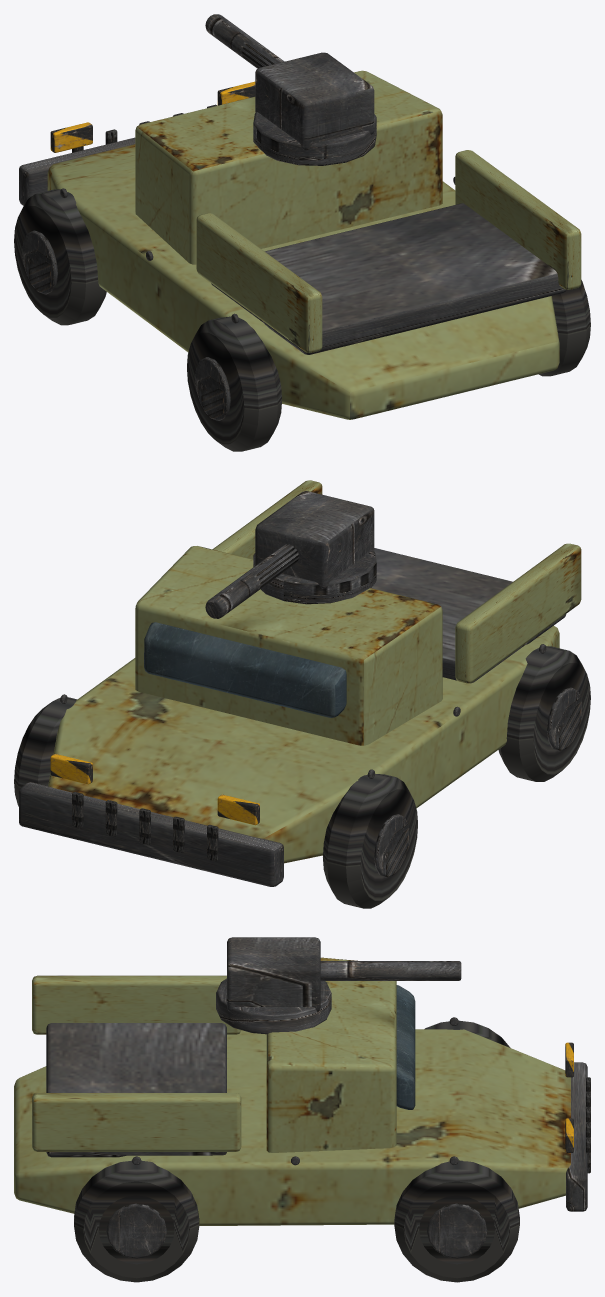
File: punisher.gltf
The picture shows the model from 3 angles, top to bottom: view 1: azimuth 30°, elevation 25°; view 2: azimuth 150°, elevation 25°; view 3: azimuth 270°, elevation 25°; orthographic projection. The views are drawn at different scales.
Parts seen in each view (by area): view 1: Armored chassis.001, Armored cab, Pickup bed, Bed rails, Gun receiver.001, CC0Wheel.004, Bed rails.001, CC0Wheel.006, Turret, CC0Wheel.005, Hub.006, Hub.004 (+4 smaller); view 2: Armored chassis.001, Armored cab, Front windshield, Ram plate.001, Bed rails, CC0Wheel.006, Gun receiver.001, CC0Wheel.004, Pickup bed, Turret, CC0Wheel.007, Muzzle.002 (+5 smaller); view 3: Armored chassis.001, Armored cab, Pickup bed, Bed rails.001, CC0Wheel.005, CC0Wheel.007, Bed rails, Gun receiver.001, Turret, Muzzle.002, Hub.005, Hub.007 (+3 smaller).
Part boxes in pixels (bbox=[...]): Armored chassis.001: bbox=[47, 144, 559, 419]; Armored cab: bbox=[135, 70, 442, 264]; Pickup bed: bbox=[211, 203, 566, 354]; Bed rails: bbox=[196, 213, 322, 352]; Gun receiver.001: bbox=[255, 52, 374, 150]; CC0Wheel.004: bbox=[187, 316, 281, 451]; Bed rails.001: bbox=[455, 150, 581, 289]; CC0Wheel.006: bbox=[14, 189, 106, 325]; Turret: bbox=[253, 112, 376, 165]; CC0Wheel.005: bbox=[539, 280, 590, 376]; Hub.006: bbox=[22, 230, 57, 294]; Hub.004: bbox=[195, 357, 230, 420]; Armored chassis.001: bbox=[48, 625, 559, 863]; Armored cab: bbox=[135, 546, 442, 745]; Front windshield: bbox=[144, 622, 346, 717]; Ram plate.001: bbox=[19, 782, 283, 886]; Bed rails: bbox=[455, 543, 581, 683]; CC0Wheel.006: bbox=[323, 773, 417, 908]; Gun receiver.001: bbox=[255, 491, 374, 588]; CC0Wheel.004: bbox=[498, 646, 590, 781]; Pickup bed: bbox=[371, 548, 566, 683]; Turret: bbox=[253, 550, 376, 604]; CC0Wheel.007: bbox=[14, 697, 76, 806]; Muzzle.002: bbox=[205, 544, 298, 618]; Armored chassis.001: bbox=[14, 1029, 570, 1225]; Armored cab: bbox=[266, 957, 396, 1152]; Pickup bed: bbox=[46, 1023, 226, 1157]; Bed rails.001: bbox=[32, 1093, 241, 1151]; CC0Wheel.005: bbox=[74, 1160, 199, 1282]; CC0Wheel.007: bbox=[394, 1160, 519, 1282]; Bed rails: bbox=[32, 975, 240, 1034]; Gun receiver.001: bbox=[227, 937, 320, 1011]; Turret: bbox=[216, 978, 331, 1034]; Muzzle.002: bbox=[320, 961, 461, 980]; Hub.005: bbox=[106, 1203, 166, 1258]; Hub.007: bbox=[427, 1203, 487, 1258].
Size of the model in its own units: 2.65 by 1.96 by 4.
Materials: 5 (5 with a texture image).
